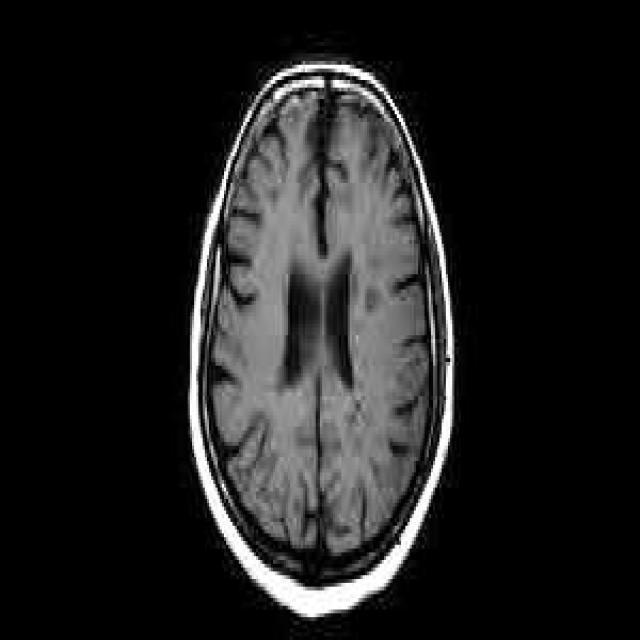notumor: (186, 65, 454, 621)
